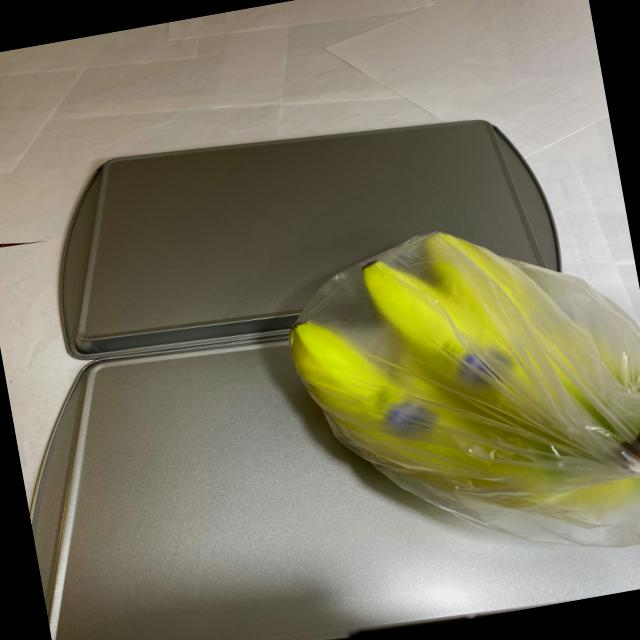banana: (266, 194, 640, 570)
